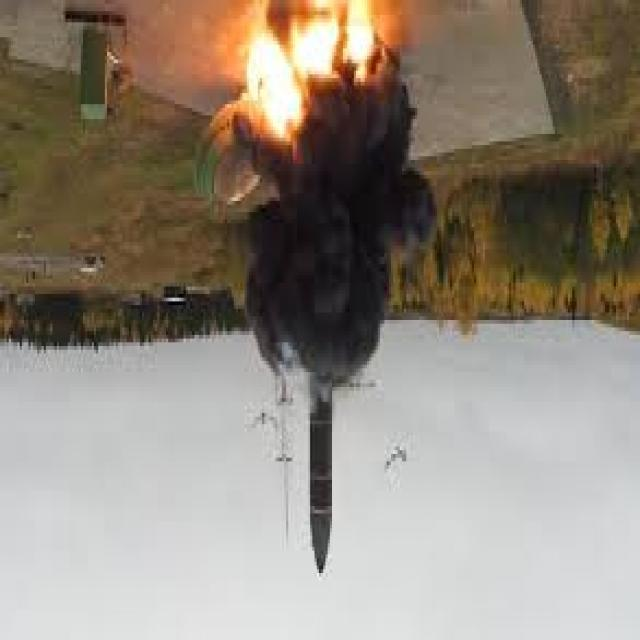Missile: (303, 369, 345, 590)
